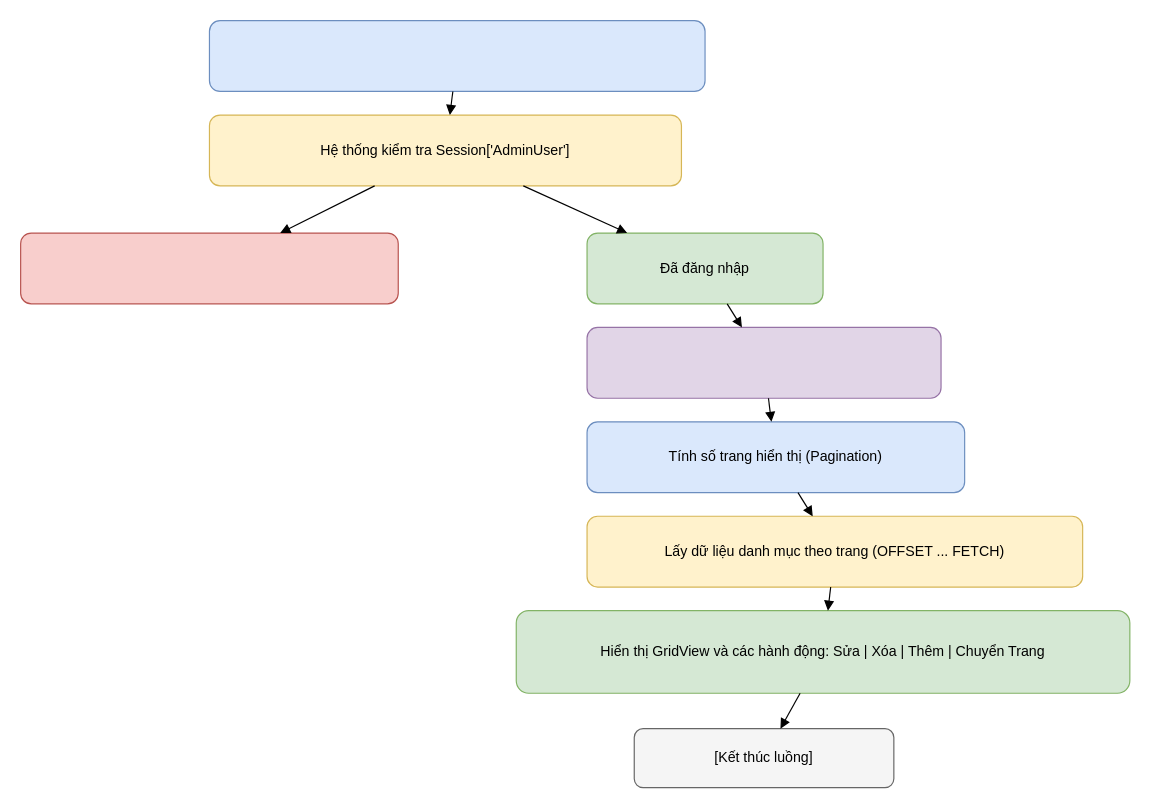
This 1151x808 diagram has some shape labels left out. Here are the shapes that lost their labels. From the top down, the box of each, then its label:
(208, 19, 705, 91): [Quản trị viên truy cập Category.aspx]
(19, 232, 398, 304): Chưa đăng nhập → Chuyển đến Login.aspx
(586, 326, 941, 398): Lấy tổng số danh mục (COUNT)
